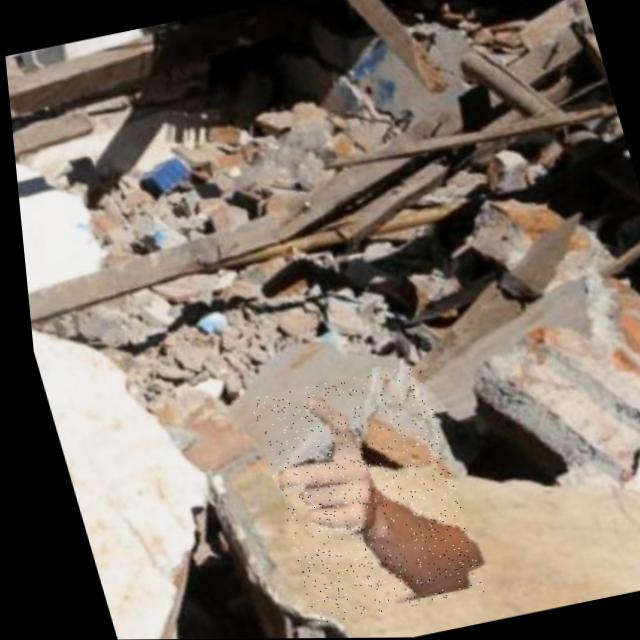Person in Rubble: (239, 365, 476, 627)
